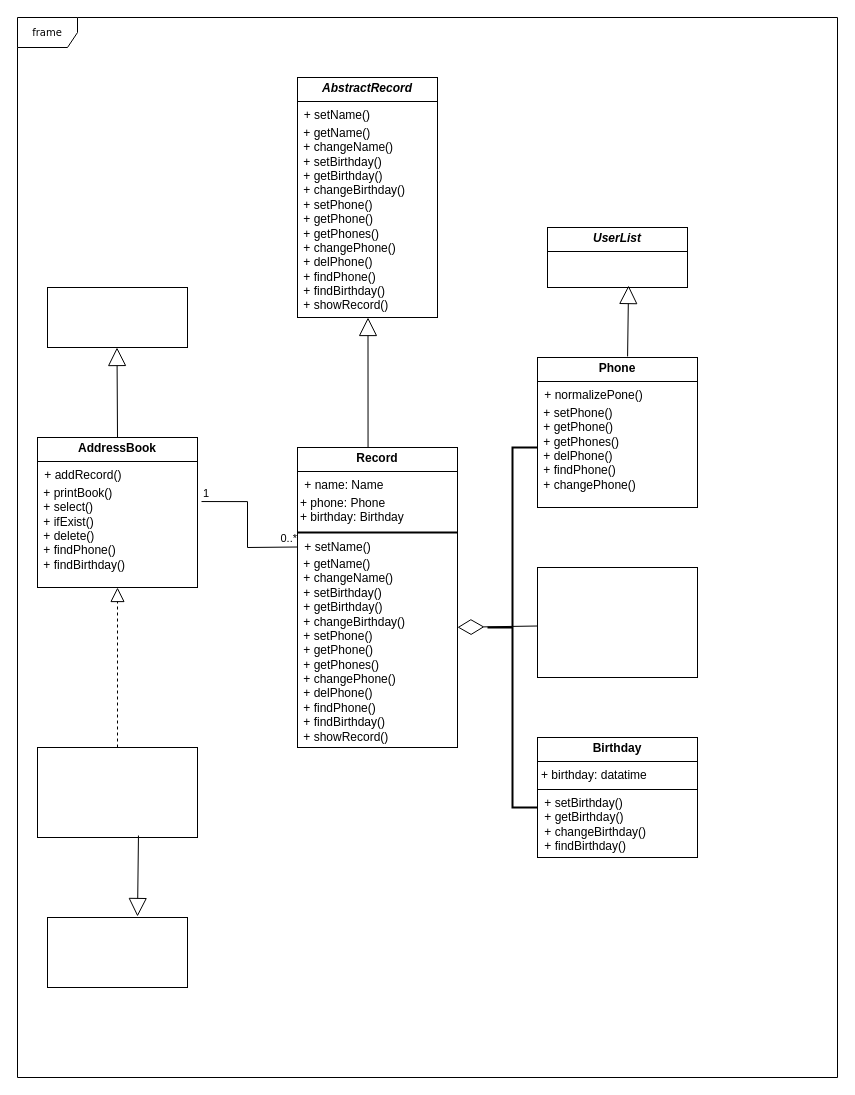
Image size: 855x1095. Some labels were removed from this diagram. Each missing label, with the centre of its shape:
"AbstractBot + help() + all() e()" goes at (117,952).
"Name + name: str + setName() + getName() + changeName()" goes at (617,622).
"SimpleBot + book: AddressBook + help() + all()" goes at (117,792).
"UserDict" goes at (117,317).
